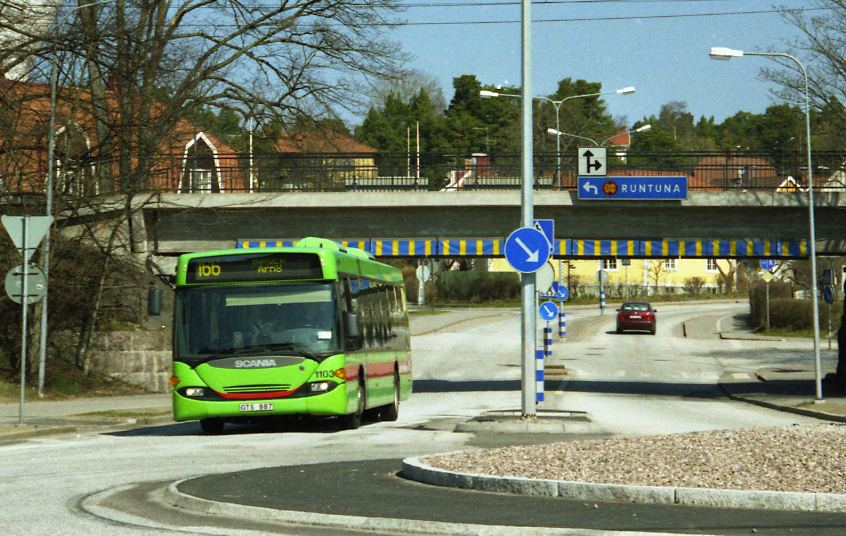bus: (160, 234, 418, 441)
car: (602, 287, 662, 345)
